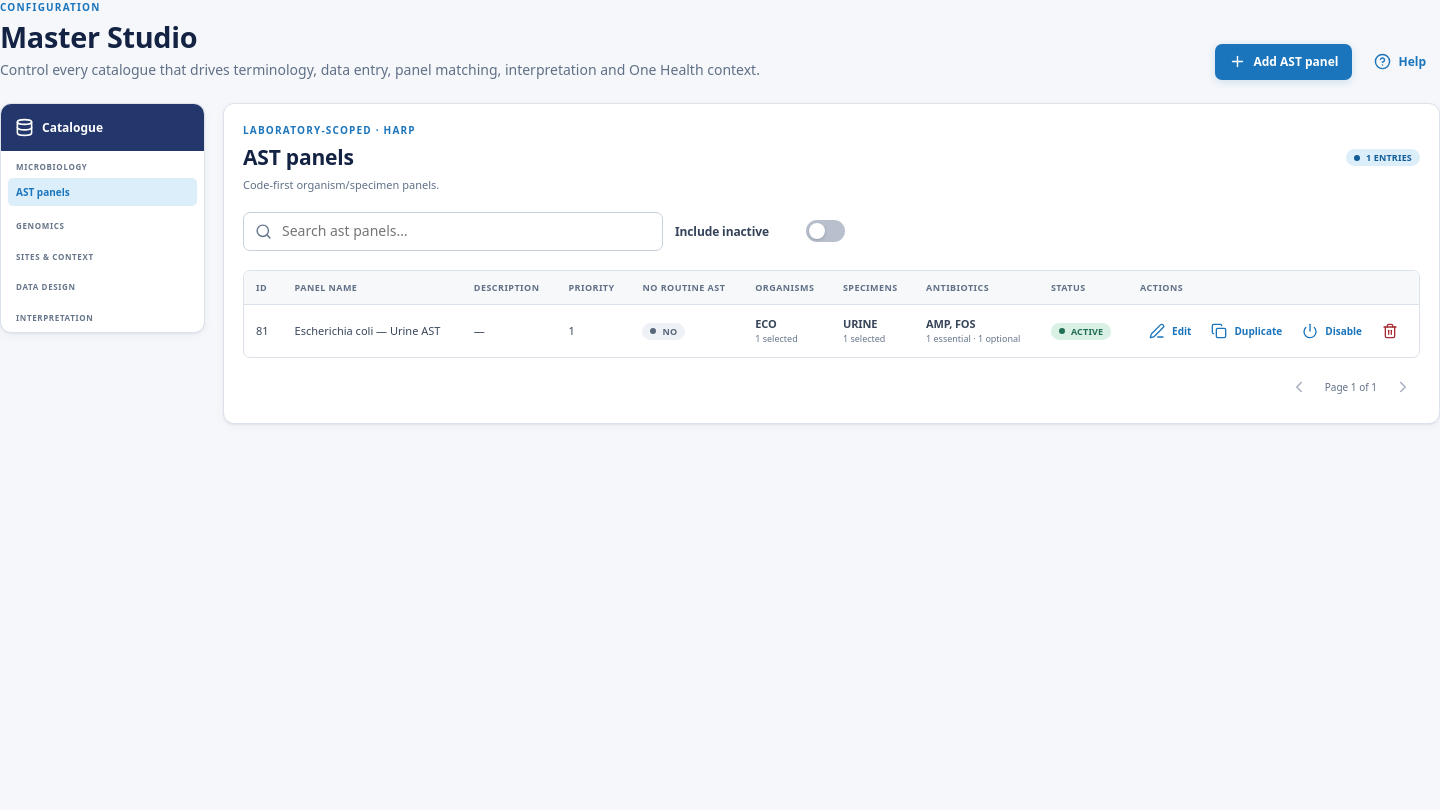
Test: MasterStudioPage AST panel editing › gives each membership its own section instead of one long form
Click the button "Edit" at (1170, 331), box [1140,316,1200,346]
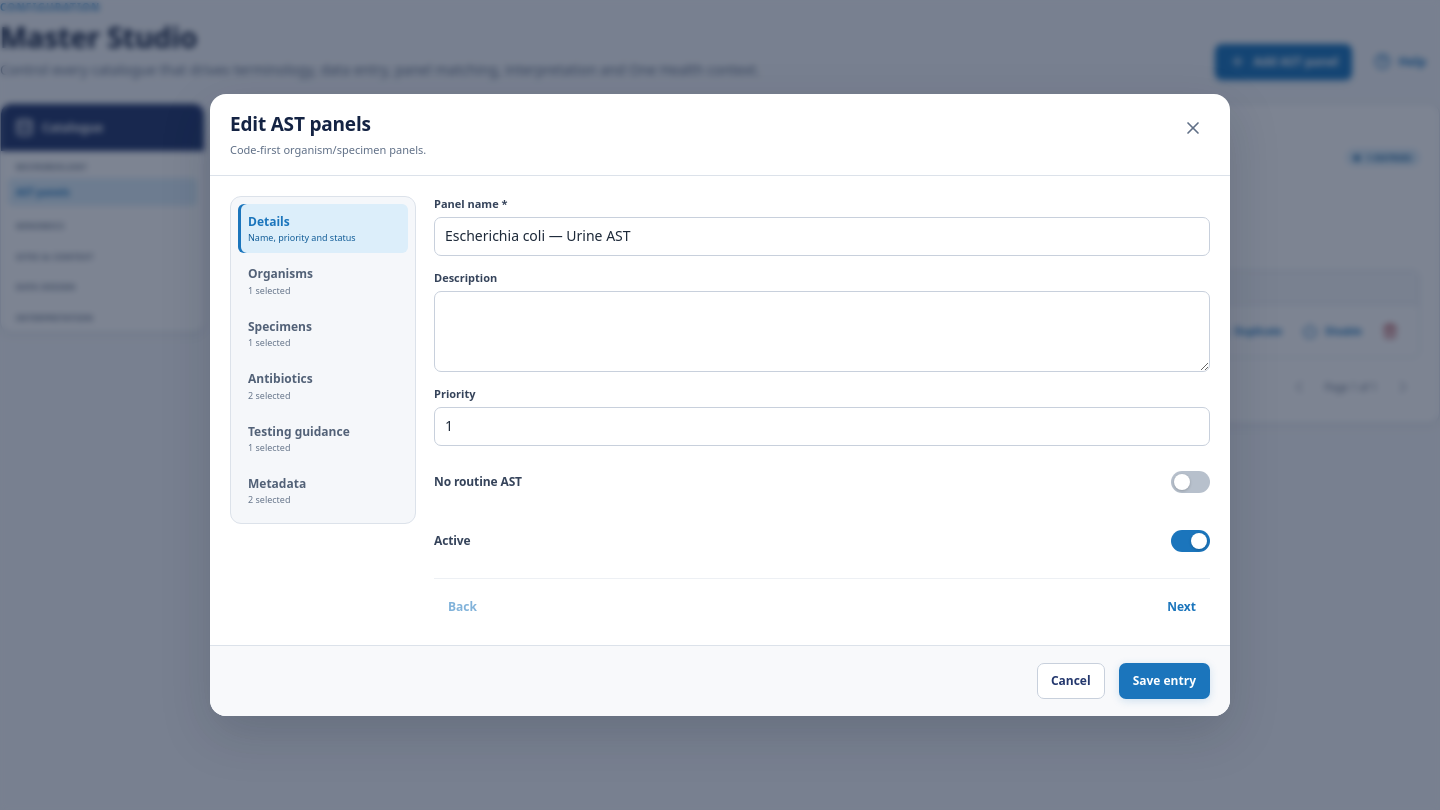
expect the field labelled "Panel name *" is shown: met, box [434,217,1210,256]
expect the button "Organisms 1 selected" is shown: met
expect the button "Antibiotics 2 selected" is shown: met, box [238,361,408,411]
Click the button "Organisms 1 selected" at (323, 281), box [238,256,408,306]
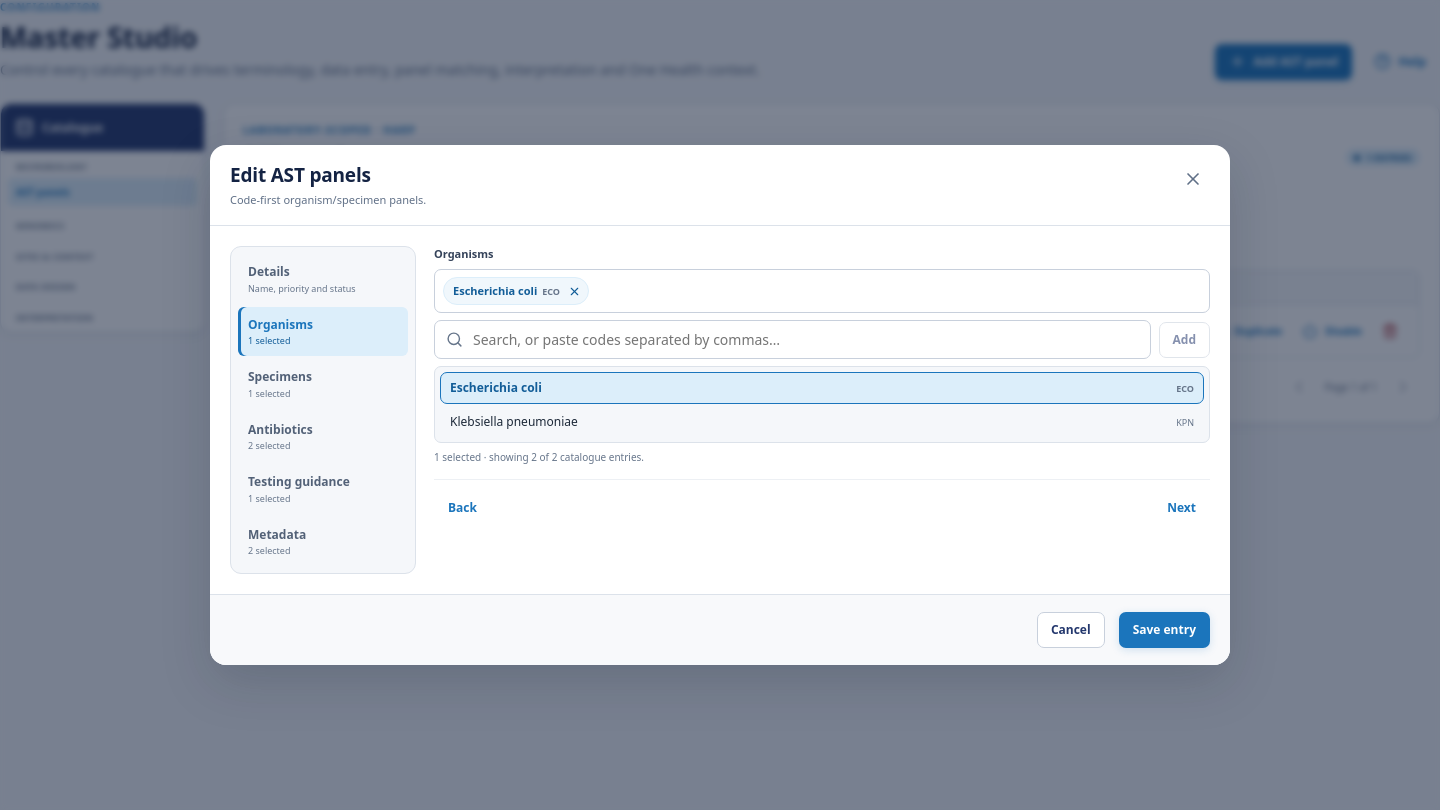
expect the button named "Remove Escherichia coli" is shown: met, box [565,282,583,300]
Click the button "Specimens 1 selected" at (323, 384), box [238,359,408,409]
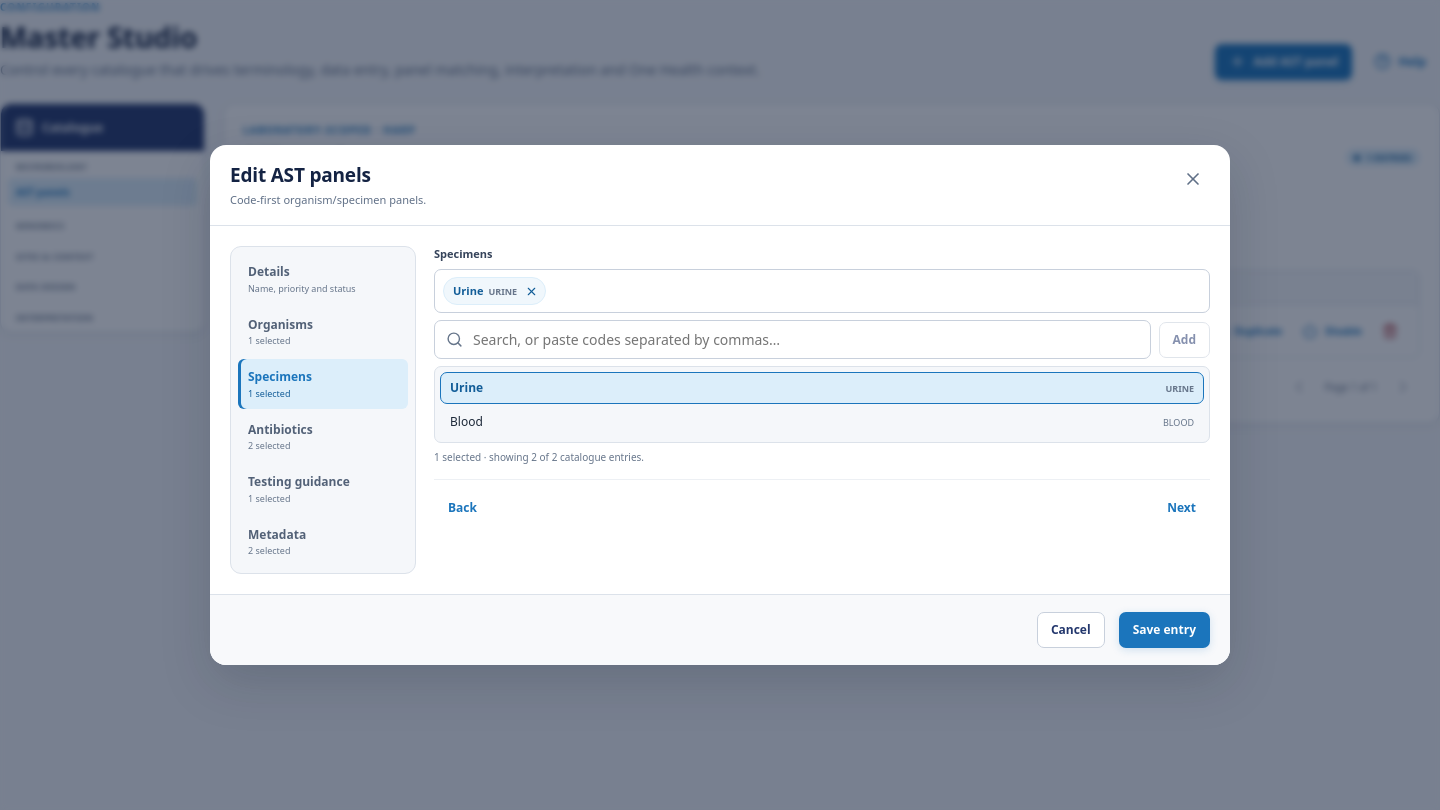
expect the button named "Remove Urine" is shown: met, box [522,282,540,300]
Click the button "Antibiotics 2 selected" at (323, 436), box [238,412,408,461]
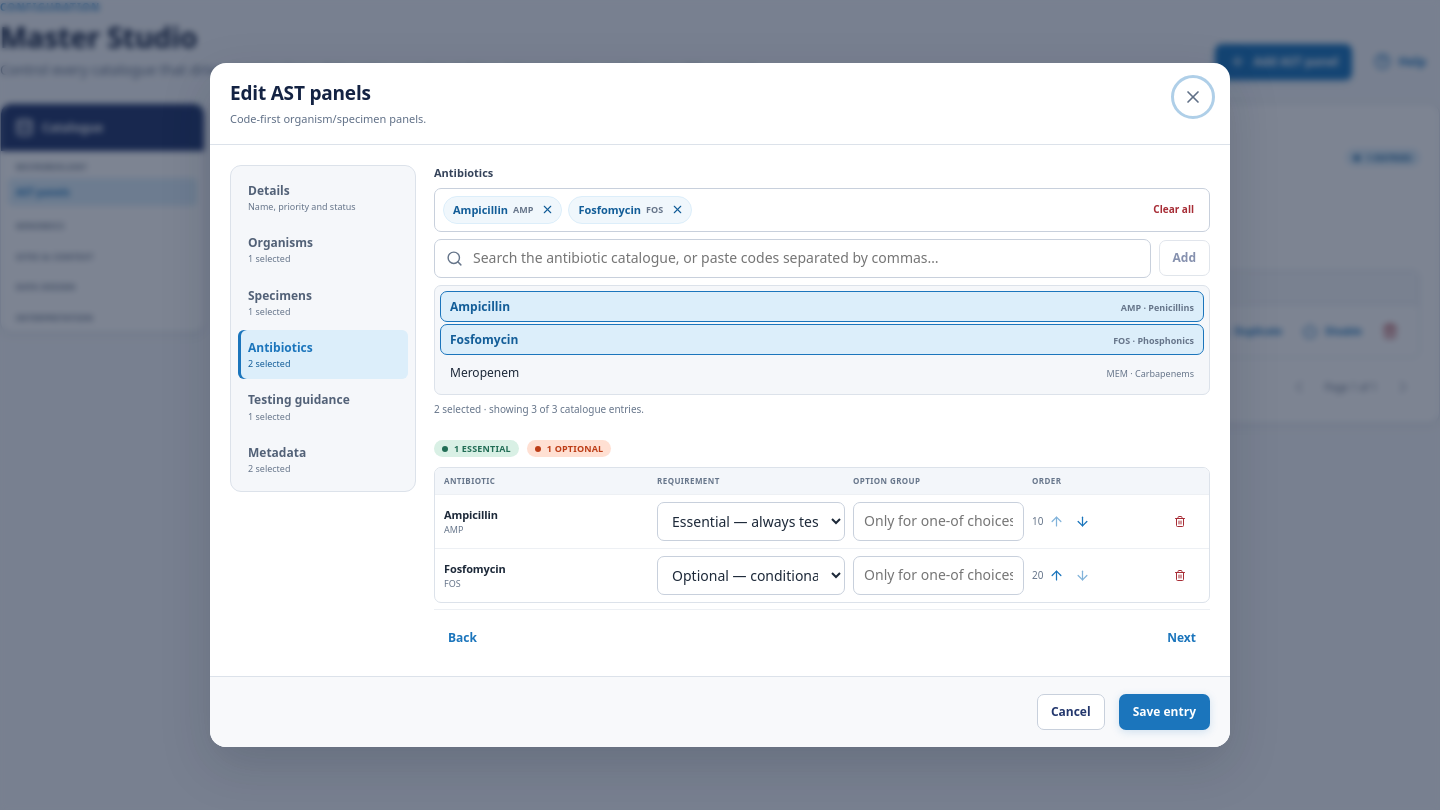
expect the button named "Remove Ampicillin" is shown: met, box [538,201,556,219]
expect the text "1 essential" is shown: met, box [434,440,519,457]
expect the text "1 optional" is shown: met, box [527,440,611,457]
